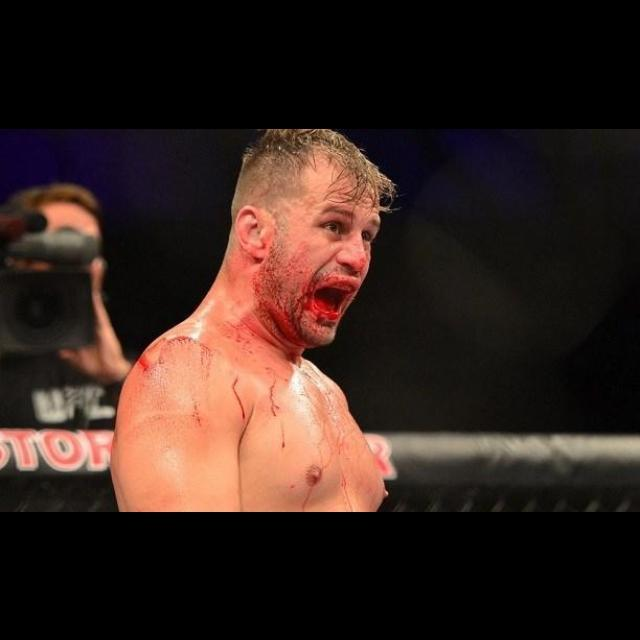blood: (216, 236, 370, 362), (120, 334, 211, 401), (265, 367, 288, 416), (232, 376, 245, 418)
